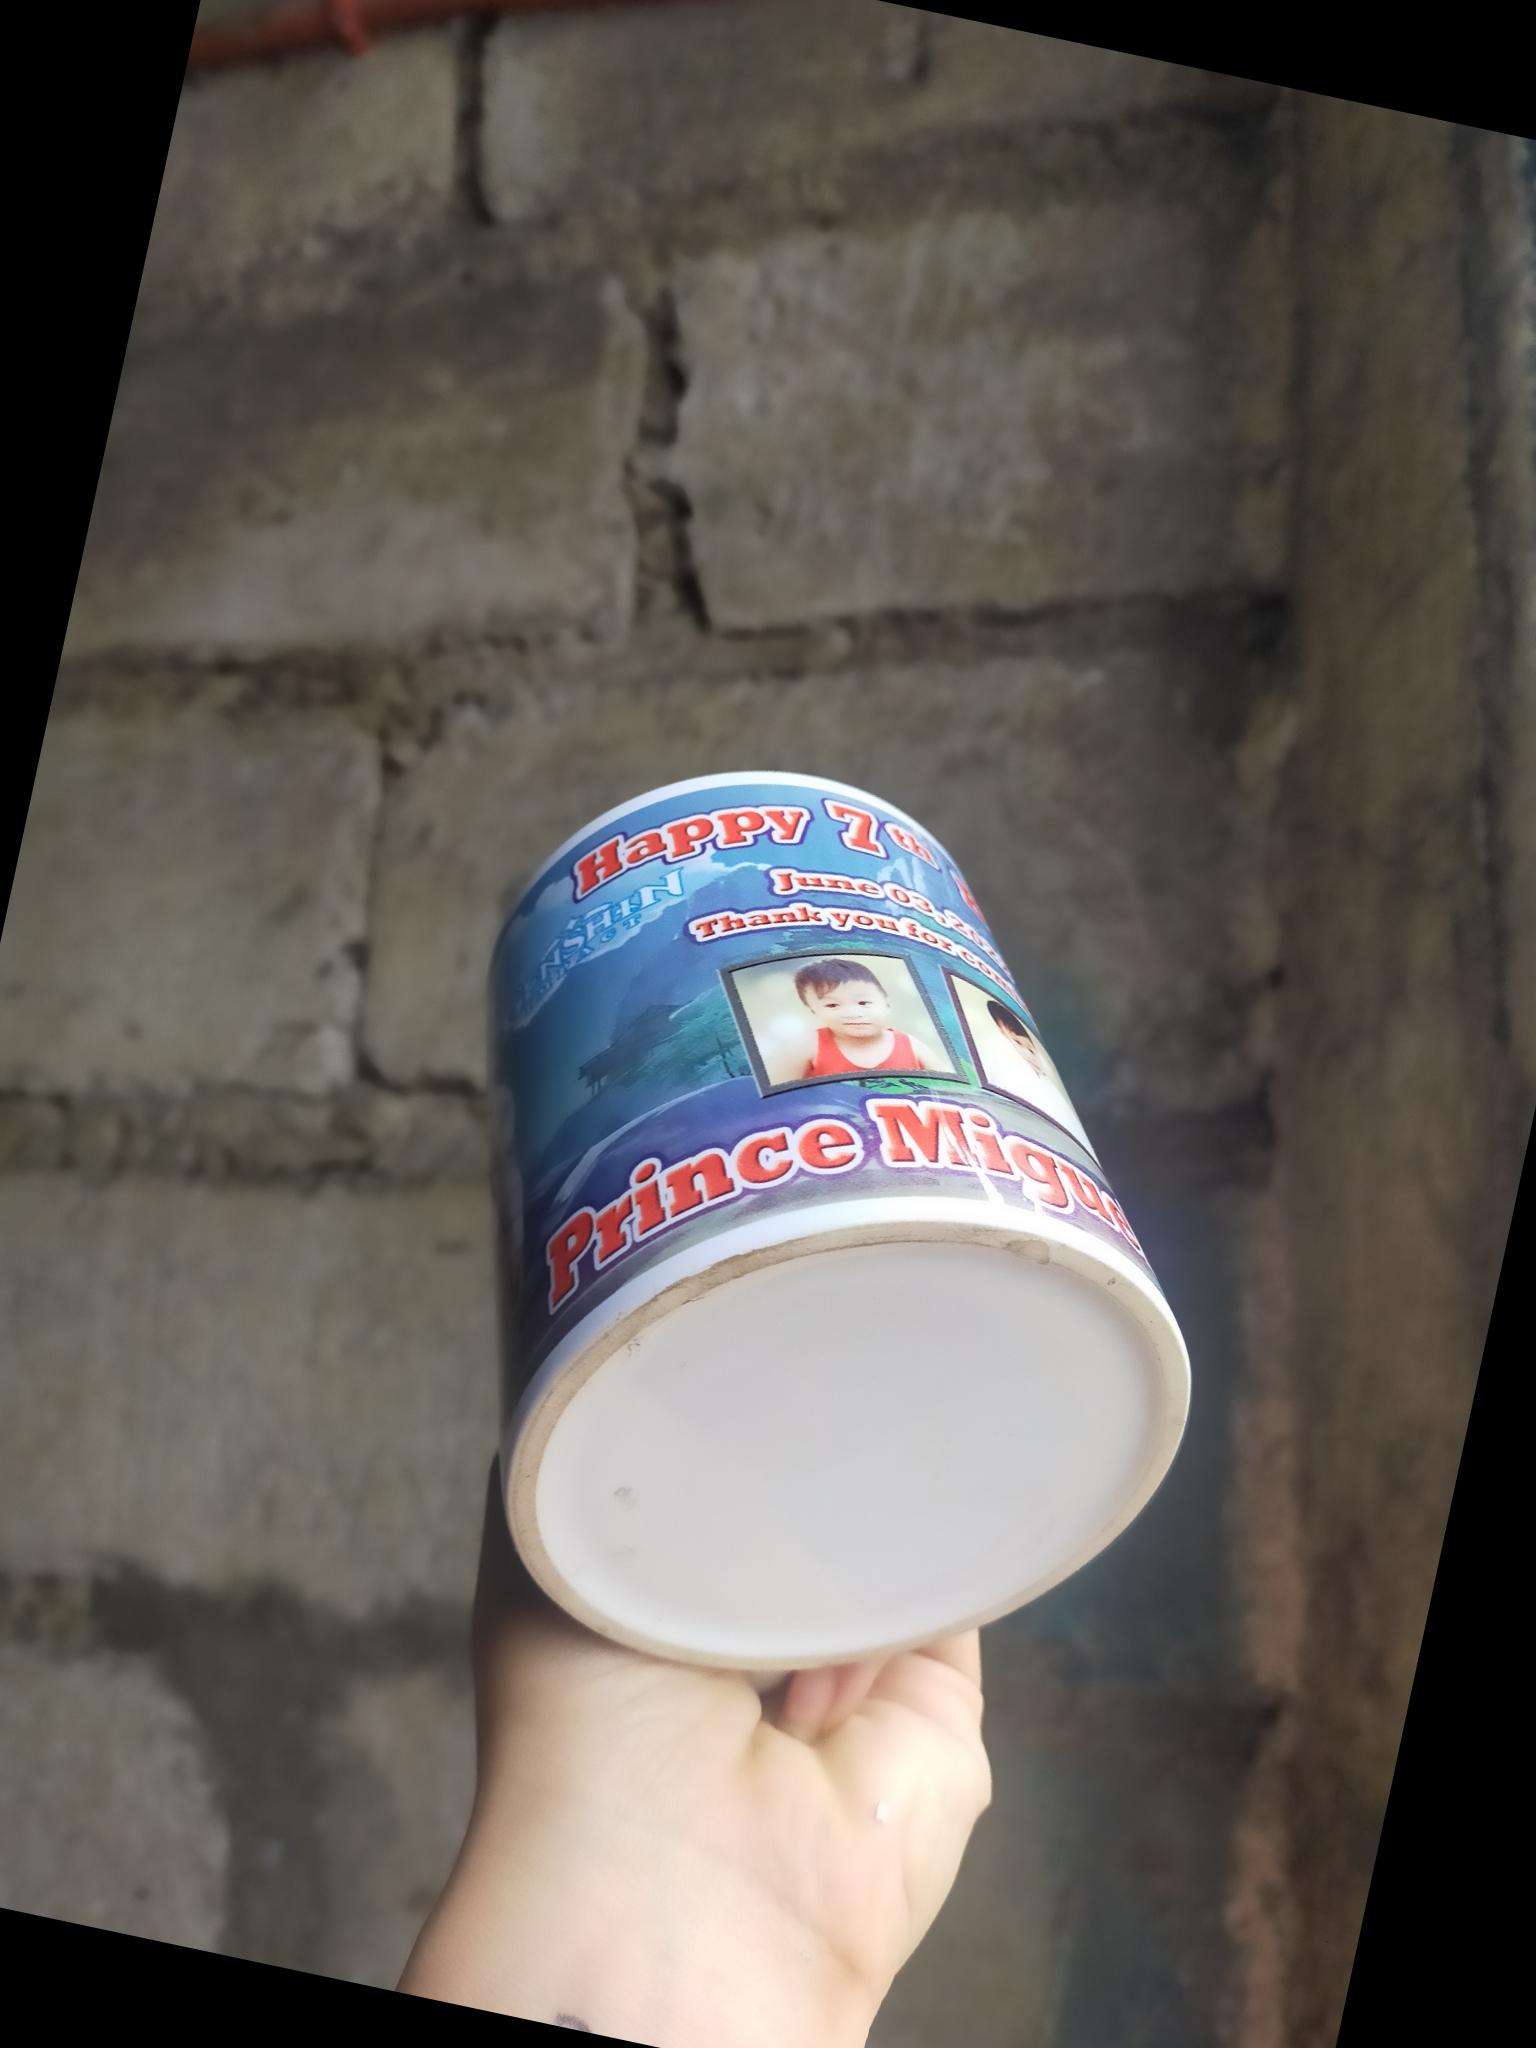Coffee Mug: (352, 722, 1300, 1763)
